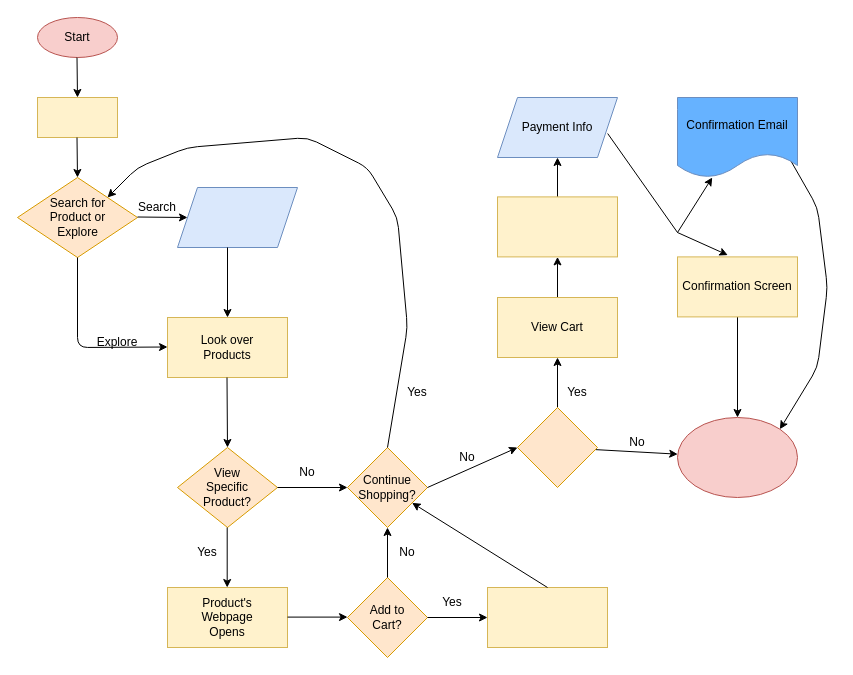
Some shapes in this 853 by 675 pixel diagram are drawn without their labels. The box of each missing label's shape, as (x1, y1, x2, y2) in pixels:
Added to Cart Confirmation: (486, 586, 608, 648)
Checkout?: (516, 406, 598, 488)
End: (676, 416, 798, 498)
Search Input: (176, 186, 298, 248)
User Enters Website: (36, 96, 118, 138)
View Payment: (496, 196, 618, 257)
